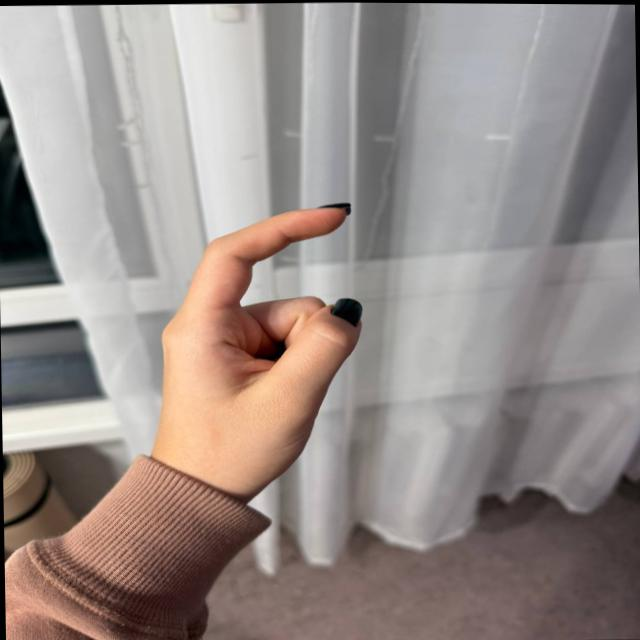kh: (151, 183, 385, 464)
